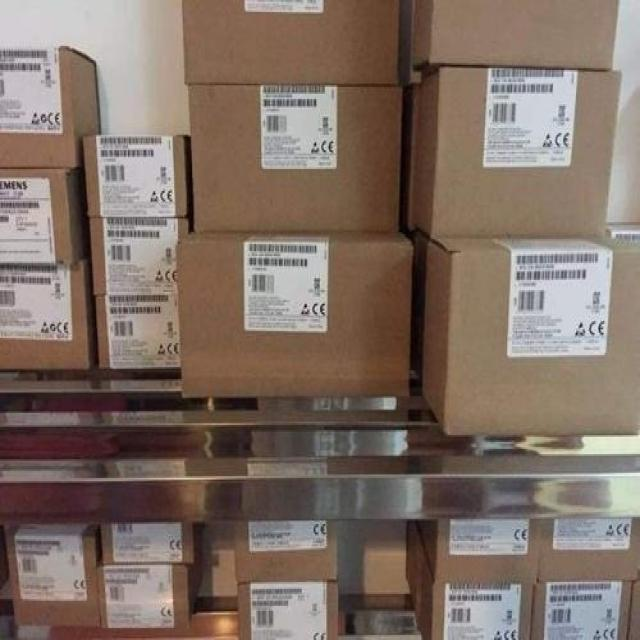box: (411, 230, 640, 435), (177, 232, 413, 398), (411, 67, 622, 237), (188, 85, 403, 232), (180, 0, 401, 85), (406, 519, 532, 640), (412, 0, 620, 72), (0, 46, 100, 169), (0, 258, 97, 370), (5, 522, 102, 626), (0, 169, 90, 266), (82, 135, 188, 215), (99, 551, 204, 628), (88, 217, 189, 295), (419, 521, 540, 584), (536, 515, 640, 584), (234, 519, 337, 582), (96, 295, 180, 369), (237, 580, 338, 640), (531, 584, 632, 640), (102, 524, 202, 563)
